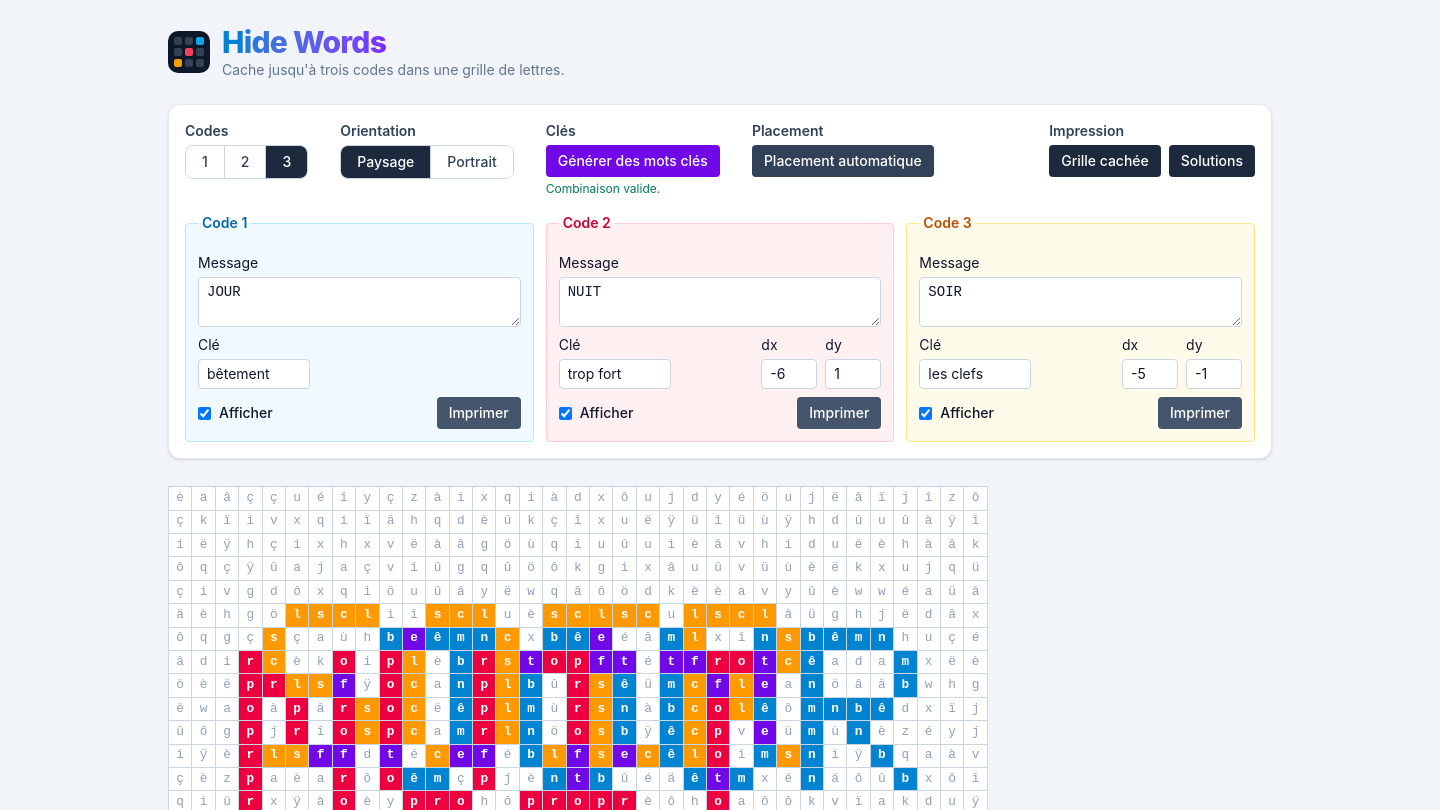
App › hides everything when all codes are unchecked
Click the 1st checkbox labelled "Afficher" at (204, 413), box [198,406,211,420]
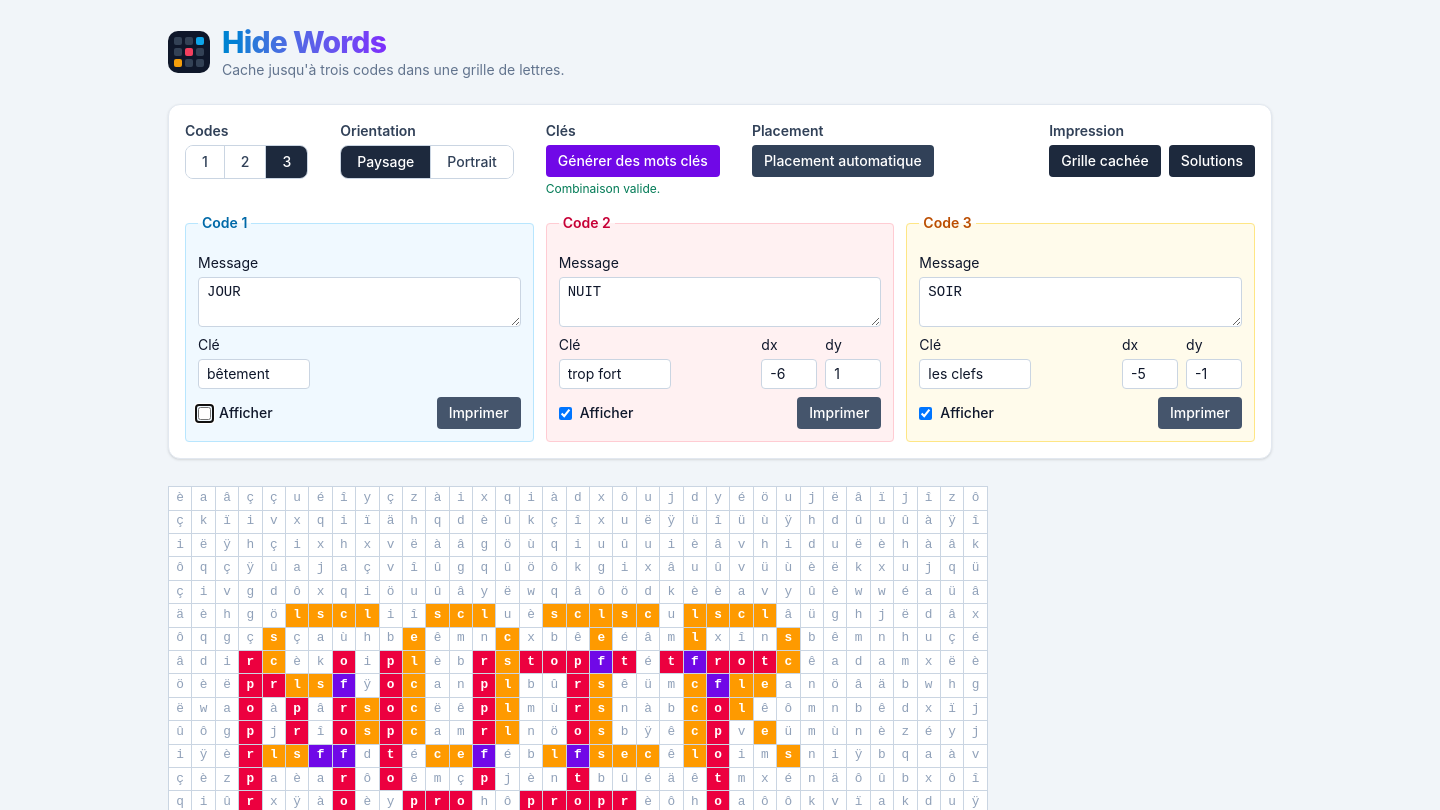
Click the 2nd checkbox labelled "Afficher" at (565, 413), box [559,406,572,420]
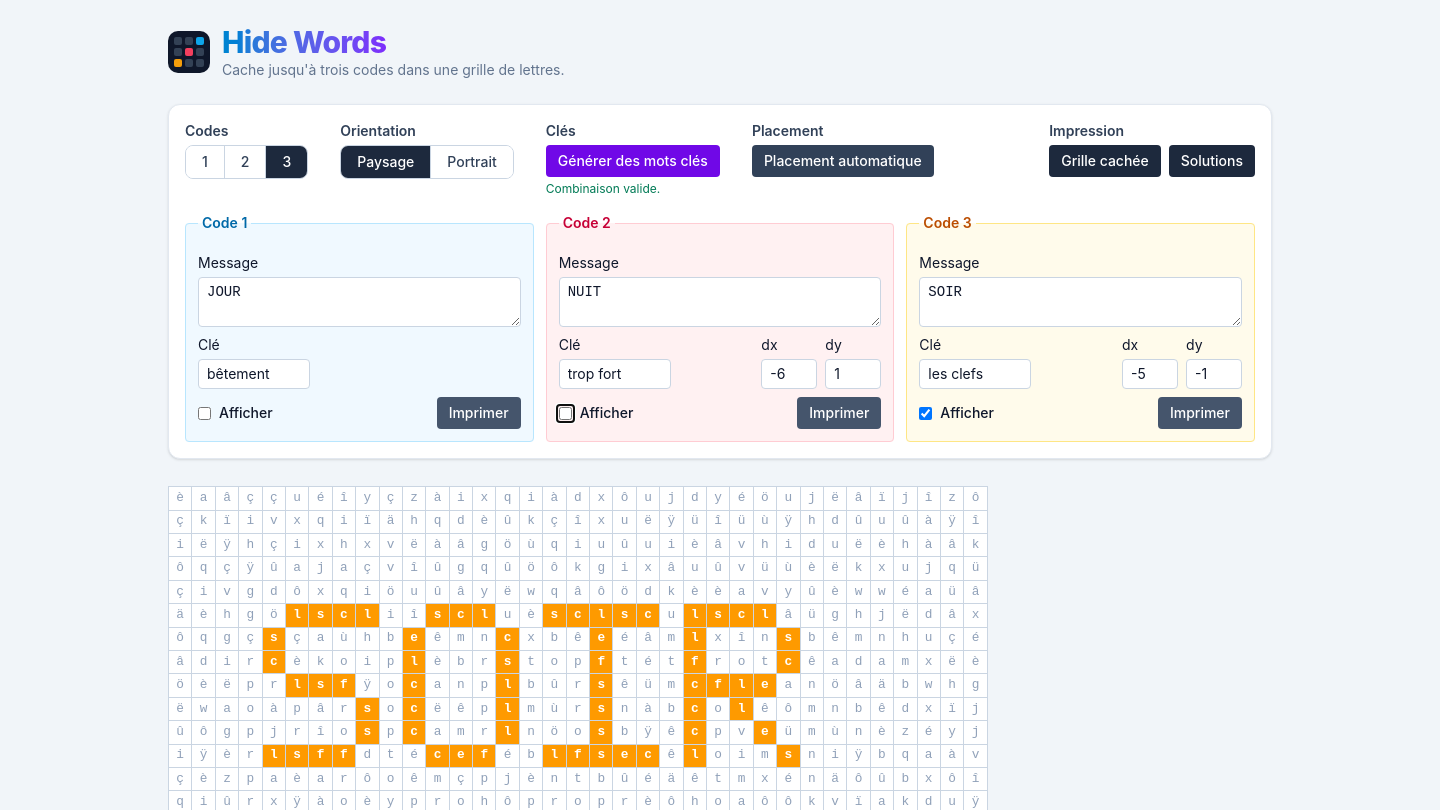
Click the 3rd checkbox labelled "Afficher" at (926, 413), box [919,406,932,420]
(page scrolled)
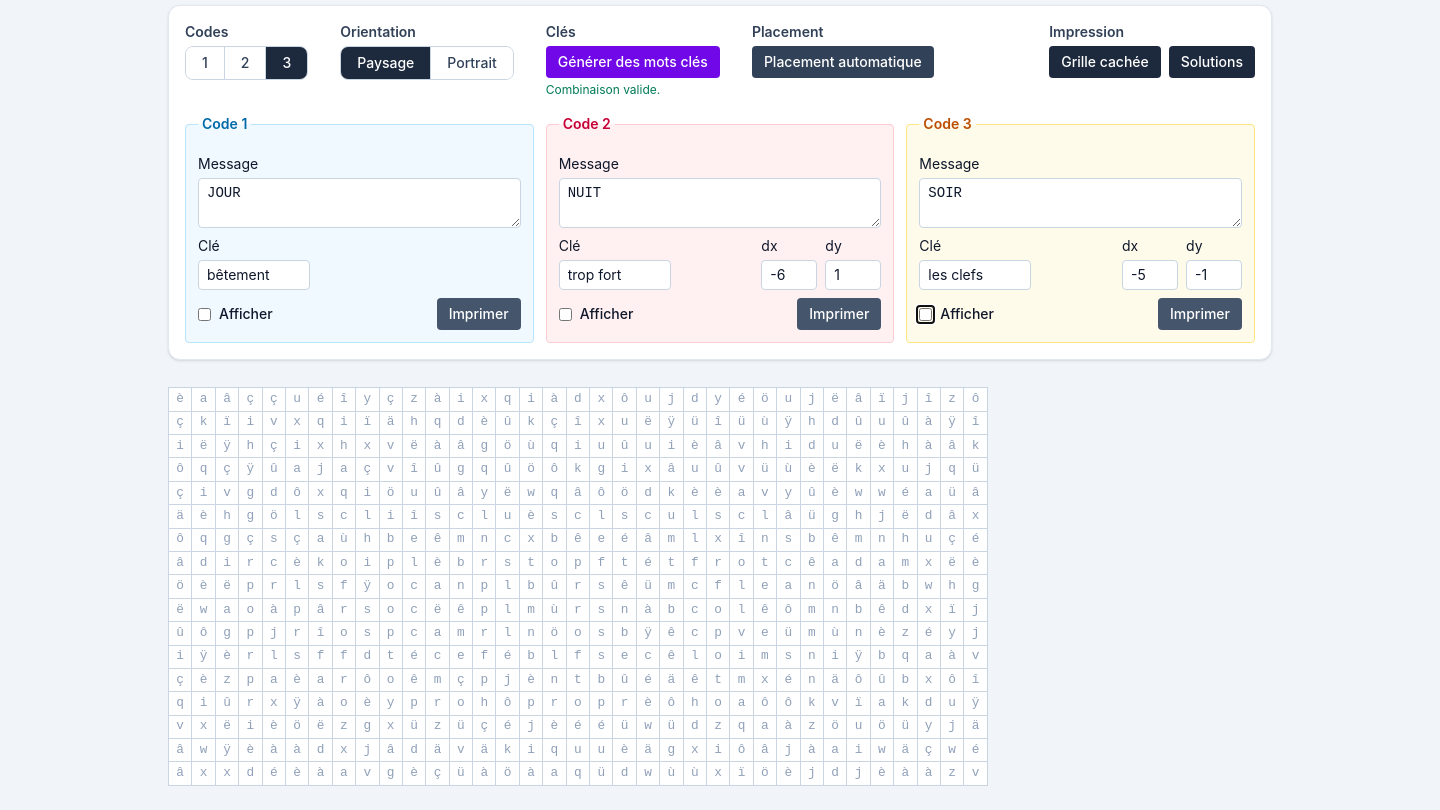
Result: the picture named "codes cachés" is shown at [168,387,988,786]
